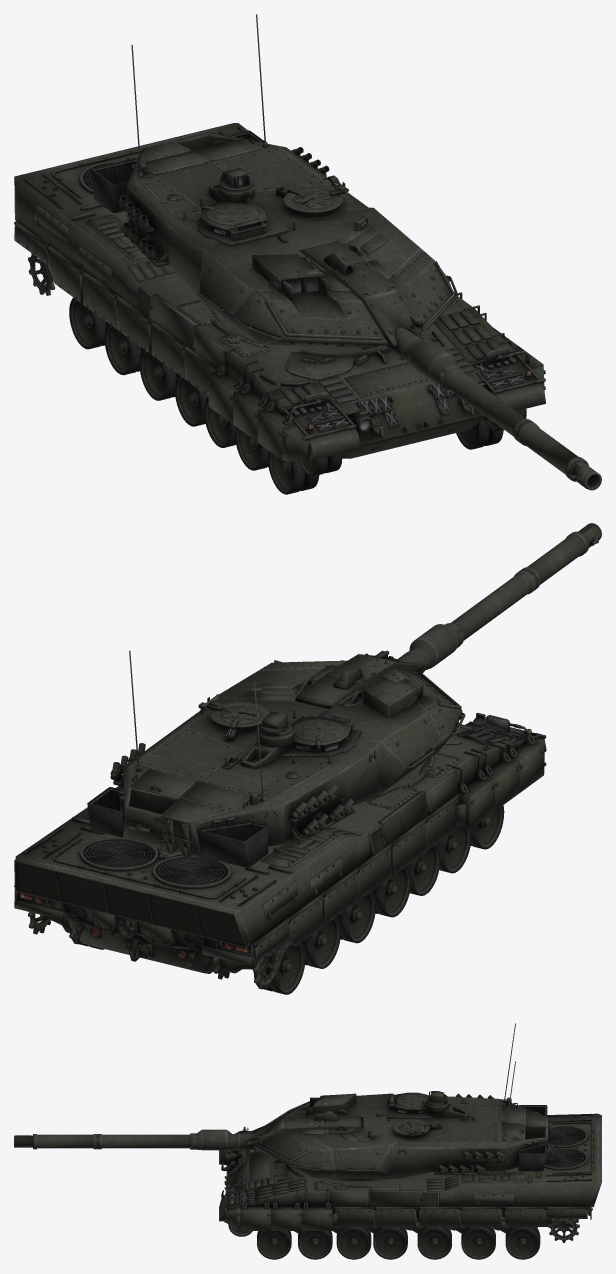
The model's file is Leopard2_140.glb.
3 renders of one model, top to bottom at view 1: azimuth 30°, elevation 25°; view 2: azimuth 150°, elevation 25°; view 3: azimuth 270°, elevation 25°, orthographic. The views are drawn at different scales.
Visible parts, largest first — view 1: Wanne, turret, cannon, radL1, radL3, radL2, radL7, radL4, radL6, radL5, radR7, radL8 (+1 smaller); view 2: Wanne, turret, cannon, radL1, radL2, radL4, radL3, radL0, radL6, radL5, radL7; view 3: Wanne, turret, cannon, radR1, radR5, radR4, radR2, radR3, radR7, radR6, radR0.
Part boxes in pixels (x1,y1,x2,y2): Wanne: (14, 123, 545, 461); turret: (91, 14, 458, 347); cannon: (299, 241, 601, 490); radL1: (69, 297, 108, 349); radL3: (139, 349, 178, 400); radL2: (104, 323, 143, 375); radL7: (267, 450, 319, 494); radL4: (175, 375, 207, 426); radL6: (235, 426, 268, 470); radL5: (204, 396, 235, 447); radR7: (456, 420, 503, 449); radL8: (298, 453, 342, 476); Wanne: (14, 712, 546, 973); turret: (87, 650, 465, 867); cannon: (295, 523, 601, 709); radL1: (253, 939, 305, 994); radL2: (301, 917, 340, 968); radL4: (372, 865, 411, 917); radL3: (337, 891, 375, 943); radL0: (212, 946, 281, 989); radL6: (436, 826, 471, 873); radL5: (407, 844, 440, 895); radL7: (470, 805, 504, 849); Wanne: (219, 1113, 601, 1233); turret: (254, 1023, 551, 1178); cannon: (14, 1111, 363, 1150); radR1: (505, 1227, 540, 1259); radR5: (336, 1227, 371, 1259); radR4: (373, 1227, 407, 1259); radR2: (461, 1227, 495, 1259); radR3: (417, 1227, 451, 1259); radR7: (257, 1231, 291, 1259); radR6: (298, 1231, 332, 1259); radR0: (548, 1219, 579, 1242).
Bounding box in the file's own units: 3.81 × 4.08 × 11.72.
3 materials, 3 textured.
